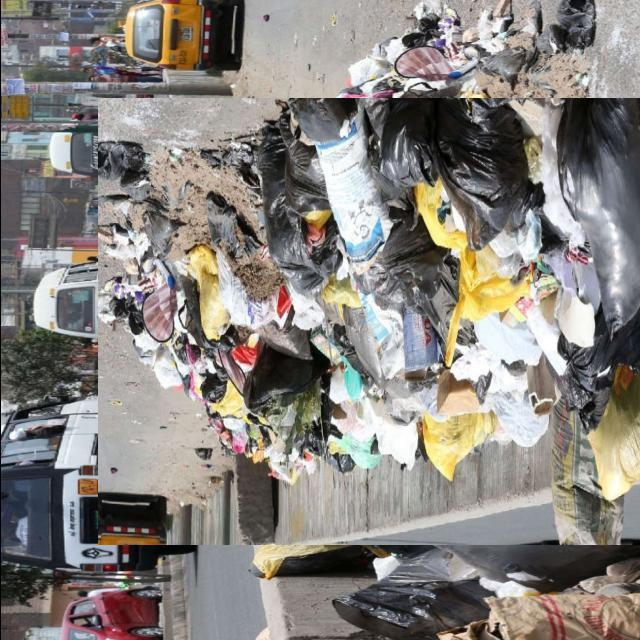Trashbag: (555, 95, 635, 337), (323, 554, 485, 640), (250, 143, 328, 297), (441, 118, 525, 246), (365, 228, 460, 335), (534, 329, 624, 428), (376, 93, 455, 190), (545, 1, 629, 56), (286, 96, 358, 156), (94, 139, 150, 198), (140, 198, 178, 260)
